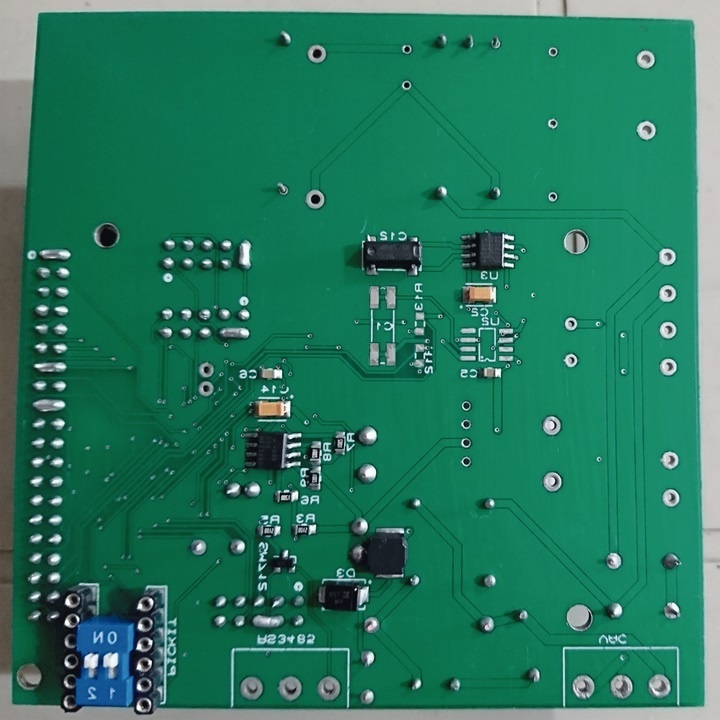F: (276, 671, 305, 703), (569, 671, 597, 703), (315, 672, 344, 702), (647, 670, 674, 701), (608, 672, 636, 701), (240, 674, 266, 702), (541, 469, 565, 496), (656, 319, 679, 342), (634, 117, 656, 141), (540, 413, 561, 438), (656, 283, 679, 305), (660, 486, 680, 511), (305, 42, 327, 64), (635, 49, 658, 70), (657, 246, 678, 268), (658, 356, 679, 378), (603, 550, 624, 572), (662, 599, 683, 621), (187, 536, 208, 558), (302, 189, 325, 209), (661, 449, 681, 471), (197, 378, 217, 400), (361, 615, 381, 636), (359, 649, 378, 670), (562, 351, 581, 371), (357, 687, 376, 706), (195, 361, 216, 378), (561, 316, 579, 334), (274, 181, 290, 199), (459, 397, 475, 415), (487, 35, 503, 52), (459, 434, 473, 453), (546, 115, 561, 132), (399, 43, 415, 57), (547, 188, 559, 206), (399, 77, 413, 92), (459, 455, 473, 469), (459, 420, 473, 432), (549, 44, 559, 60)
P: (247, 612, 287, 630), (31, 358, 70, 376), (218, 322, 252, 342), (30, 397, 67, 414), (38, 246, 73, 263), (236, 238, 252, 272)
